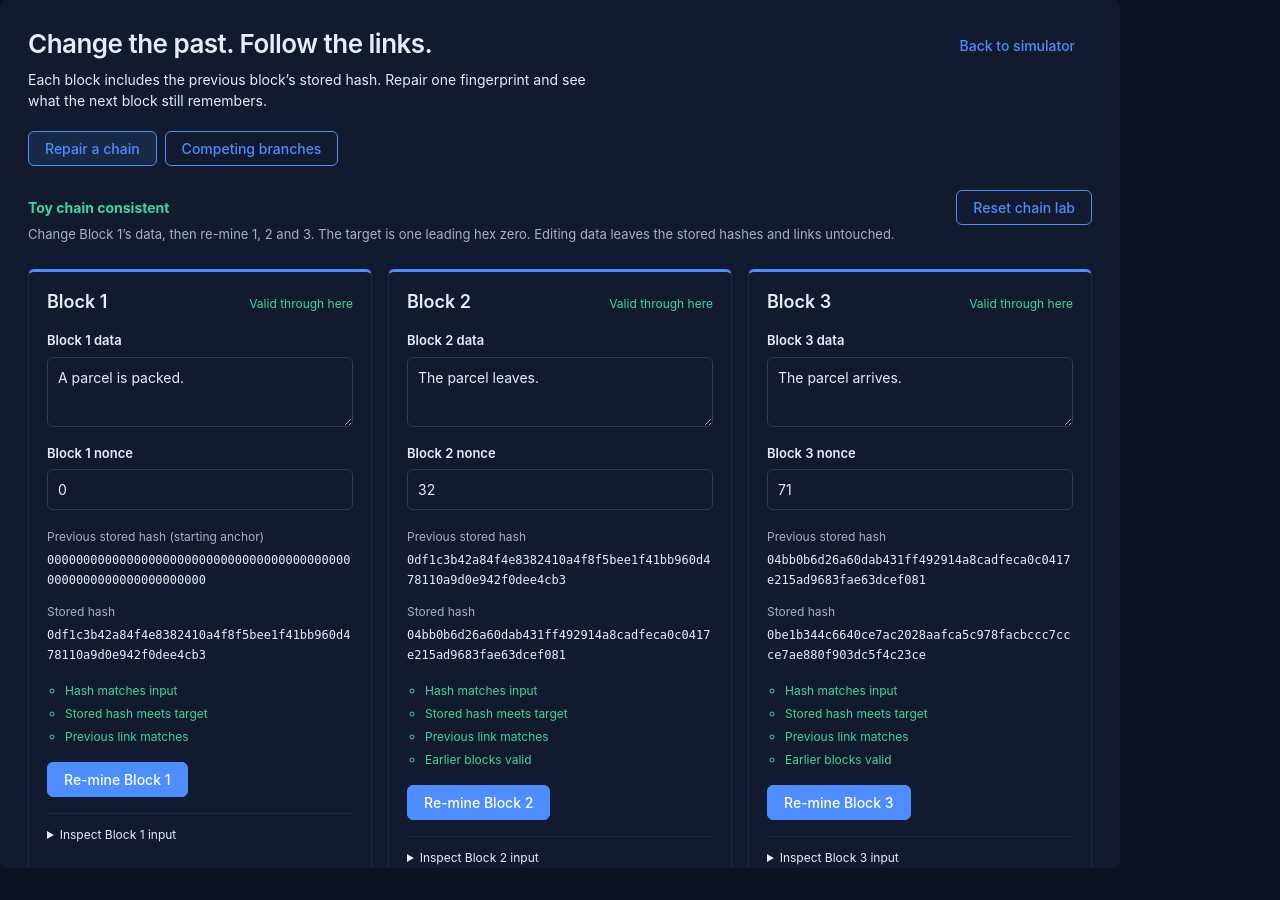
Test: ChainLab interaction › shows the complete edit and sequential repair learning flow
Expected: the text "Toy chain consistent" is shown, [28, 199, 169, 216]
Replace the text in the text box labelled "Block 1 data" with "An edited parcel record." at (200, 392), box [47, 357, 353, 427]
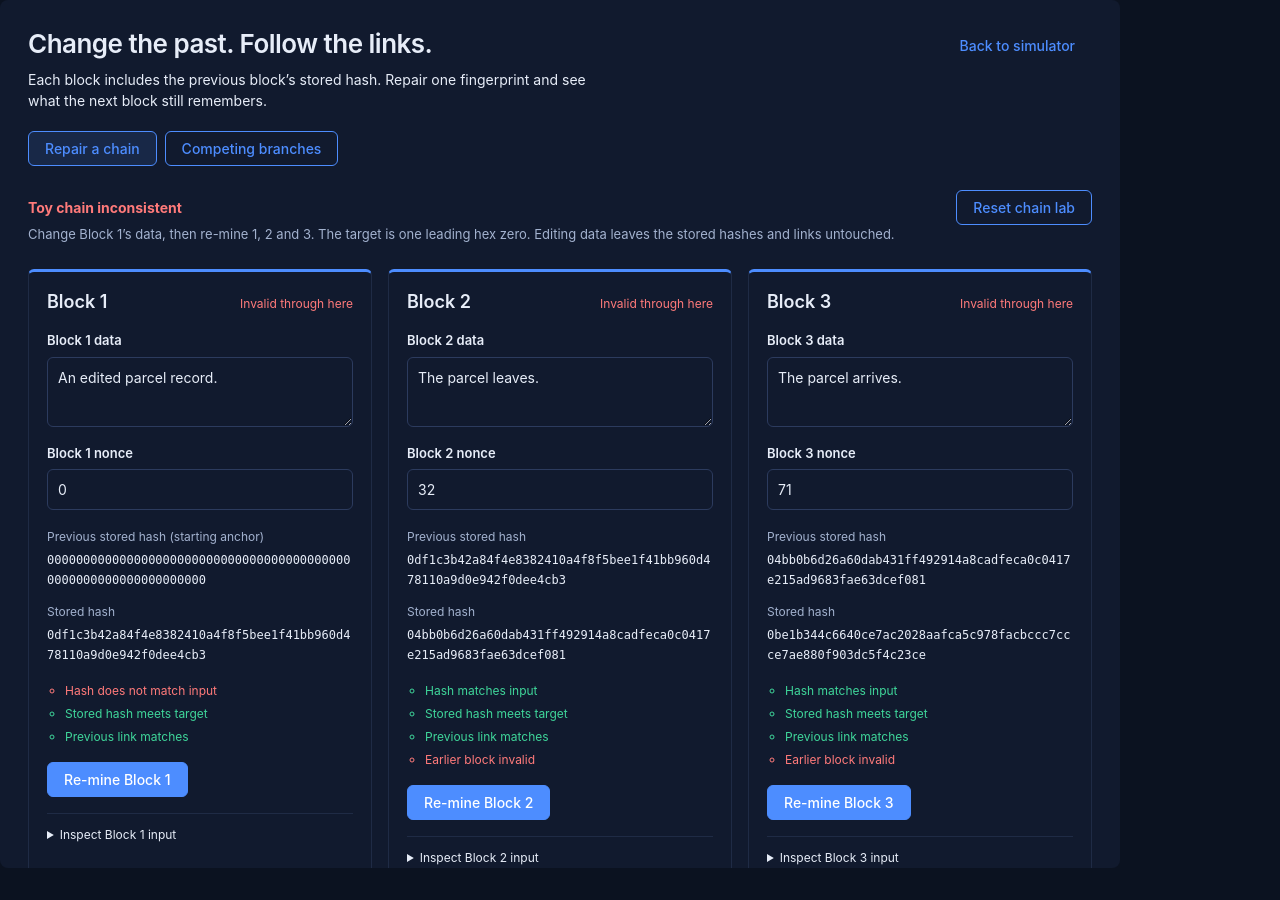
Expected: the text "Toy chain inconsistent" is shown, [28, 199, 182, 216]
Expected: the list item "Hash does not match input" is shown, [65, 683, 217, 698]
Expected: the 1st list item "Earlier block invalid" is shown, [425, 752, 535, 767]
Click the button "Re-mine Block 1" at (117, 779), box [47, 762, 188, 797]
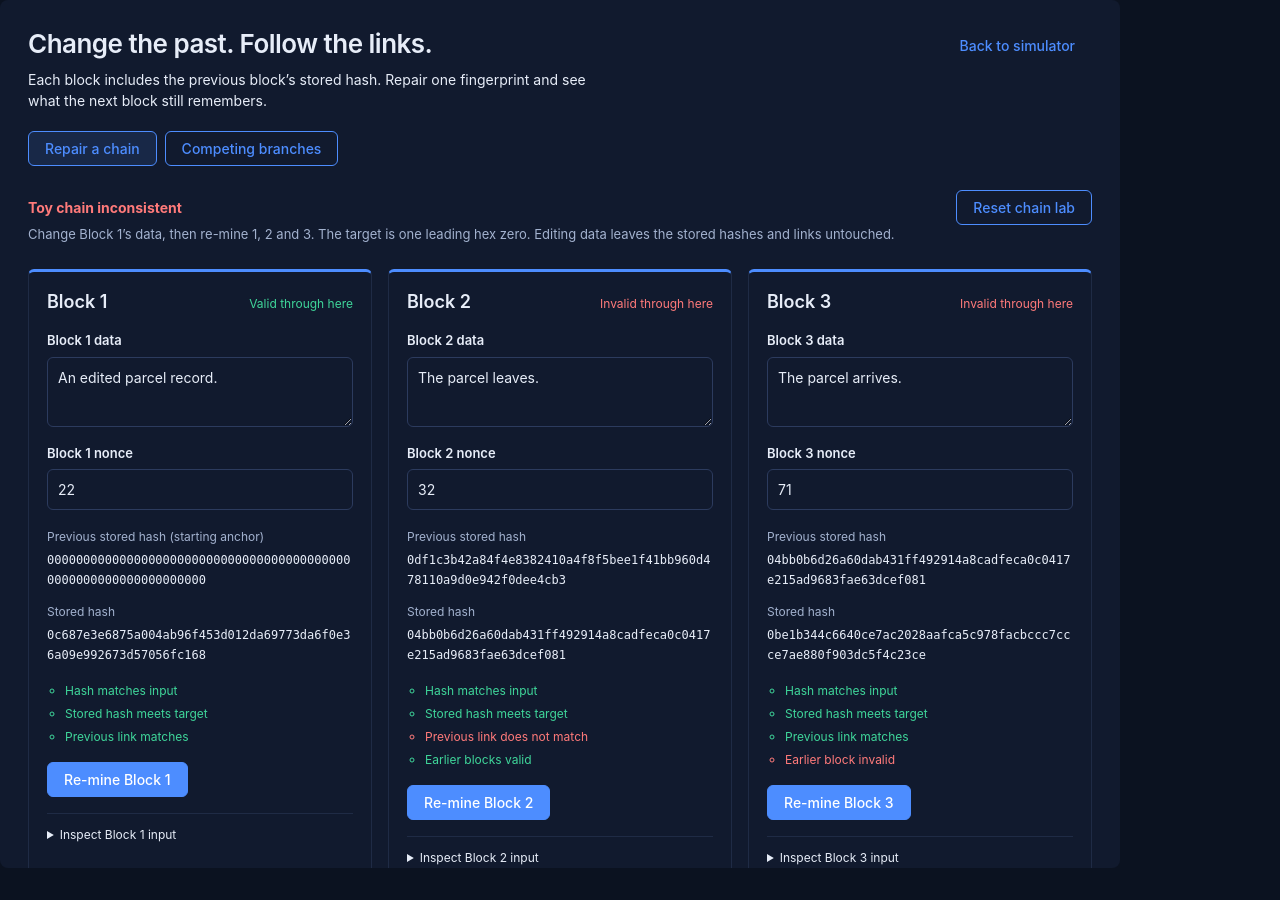
Expected: the text "Valid through here" is shown, [249, 295, 353, 313]
Expected: the list item "Previous link does not match" is shown, [425, 729, 588, 744]
Click the button "Re-mine Block 2" at (479, 802), box [407, 785, 550, 820]
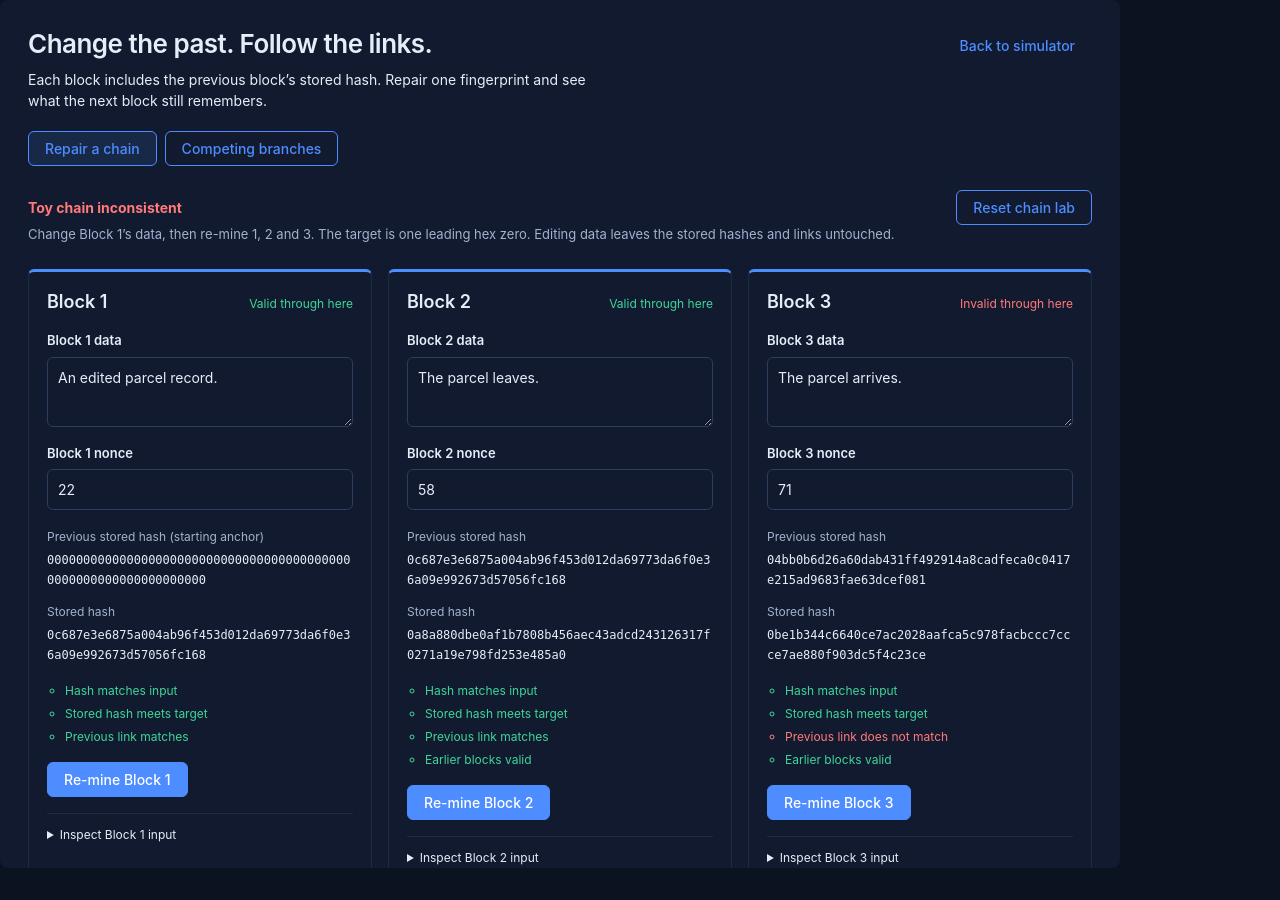
Expected: the list item "Previous link does not match" is shown, [785, 729, 948, 744]
Click the button "Re-mine Block 3" at (839, 802), box [767, 785, 910, 820]
(page scrolled)
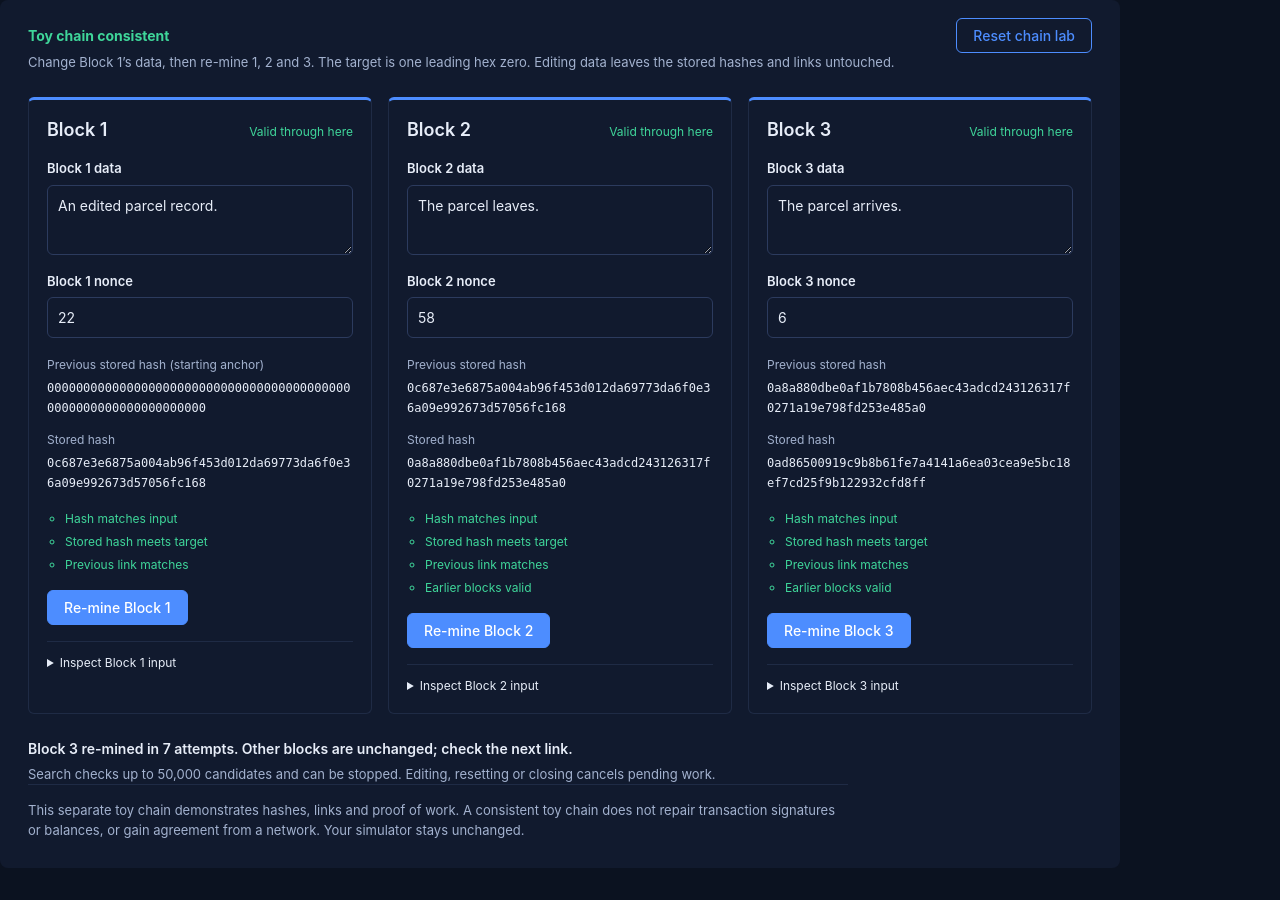
Expected: the text "Toy chain consistent" is shown, [28, 27, 169, 44]
